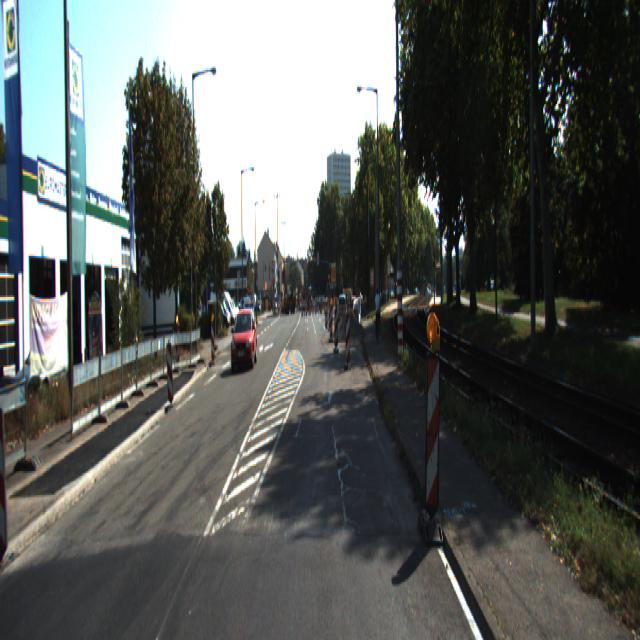Car: (229, 308, 259, 370)
